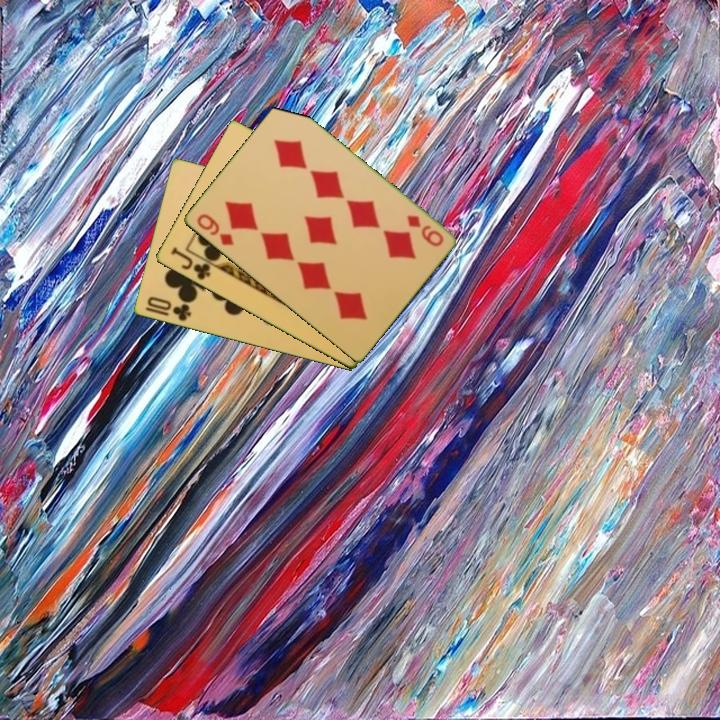10c: (141, 293, 194, 324)
9d: (193, 210, 236, 249), (403, 212, 446, 250)
Jc: (167, 243, 213, 283)
